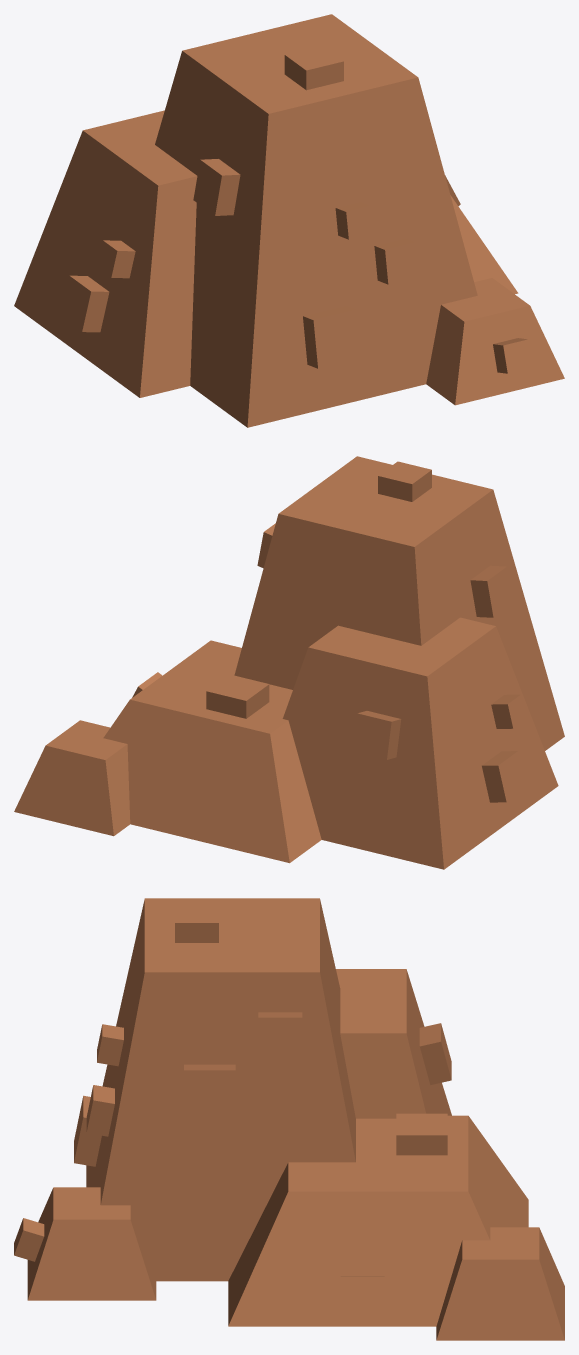
The model's file is rockssmallore.glb.
3 renders of one model, top to bottom at view 1: azimuth 30°, elevation 25°; view 2: azimuth 150°, elevation 25°; view 3: azimuth 270°, elevation 25°, orthographic. The views are drawn at different scales.
Parts seen in each view (by area): view 1: rocksSmallOre; view 2: rocksSmallOre; view 3: rocksSmallOre.
Part boxes in pixels (left/top/right/bottom): rocksSmallOre: left=14, top=14, right=564, bottom=427; rocksSmallOre: left=14, top=456, right=564, bottom=869; rocksSmallOre: left=14, top=898, right=564, bottom=1340.
Size of the model in its own units: 6.86 by 4.57 by 7.5.
